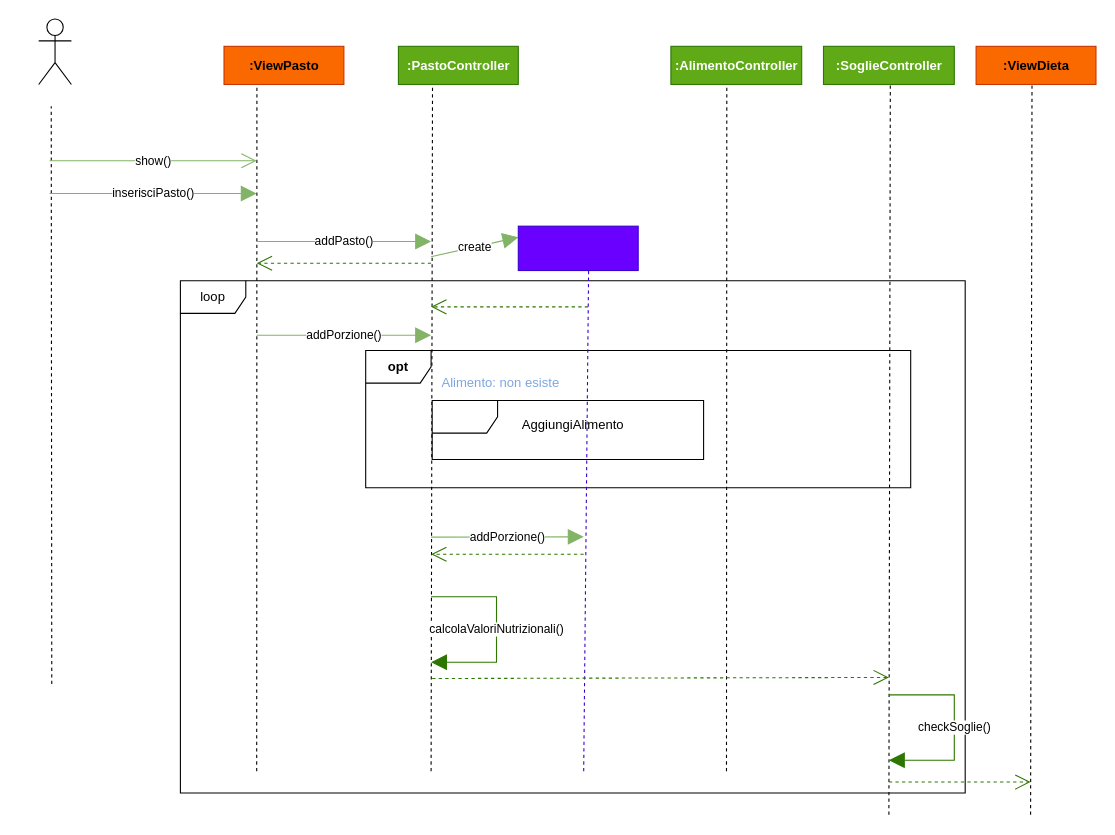
This 1115x835 diagram has some shape labels left out. The centre of each missing label's shape, as x and y in pixels:
:Pasto: the point at 577,248
Nutrizionista: the point at 54,51
ref: the point at 567,429
